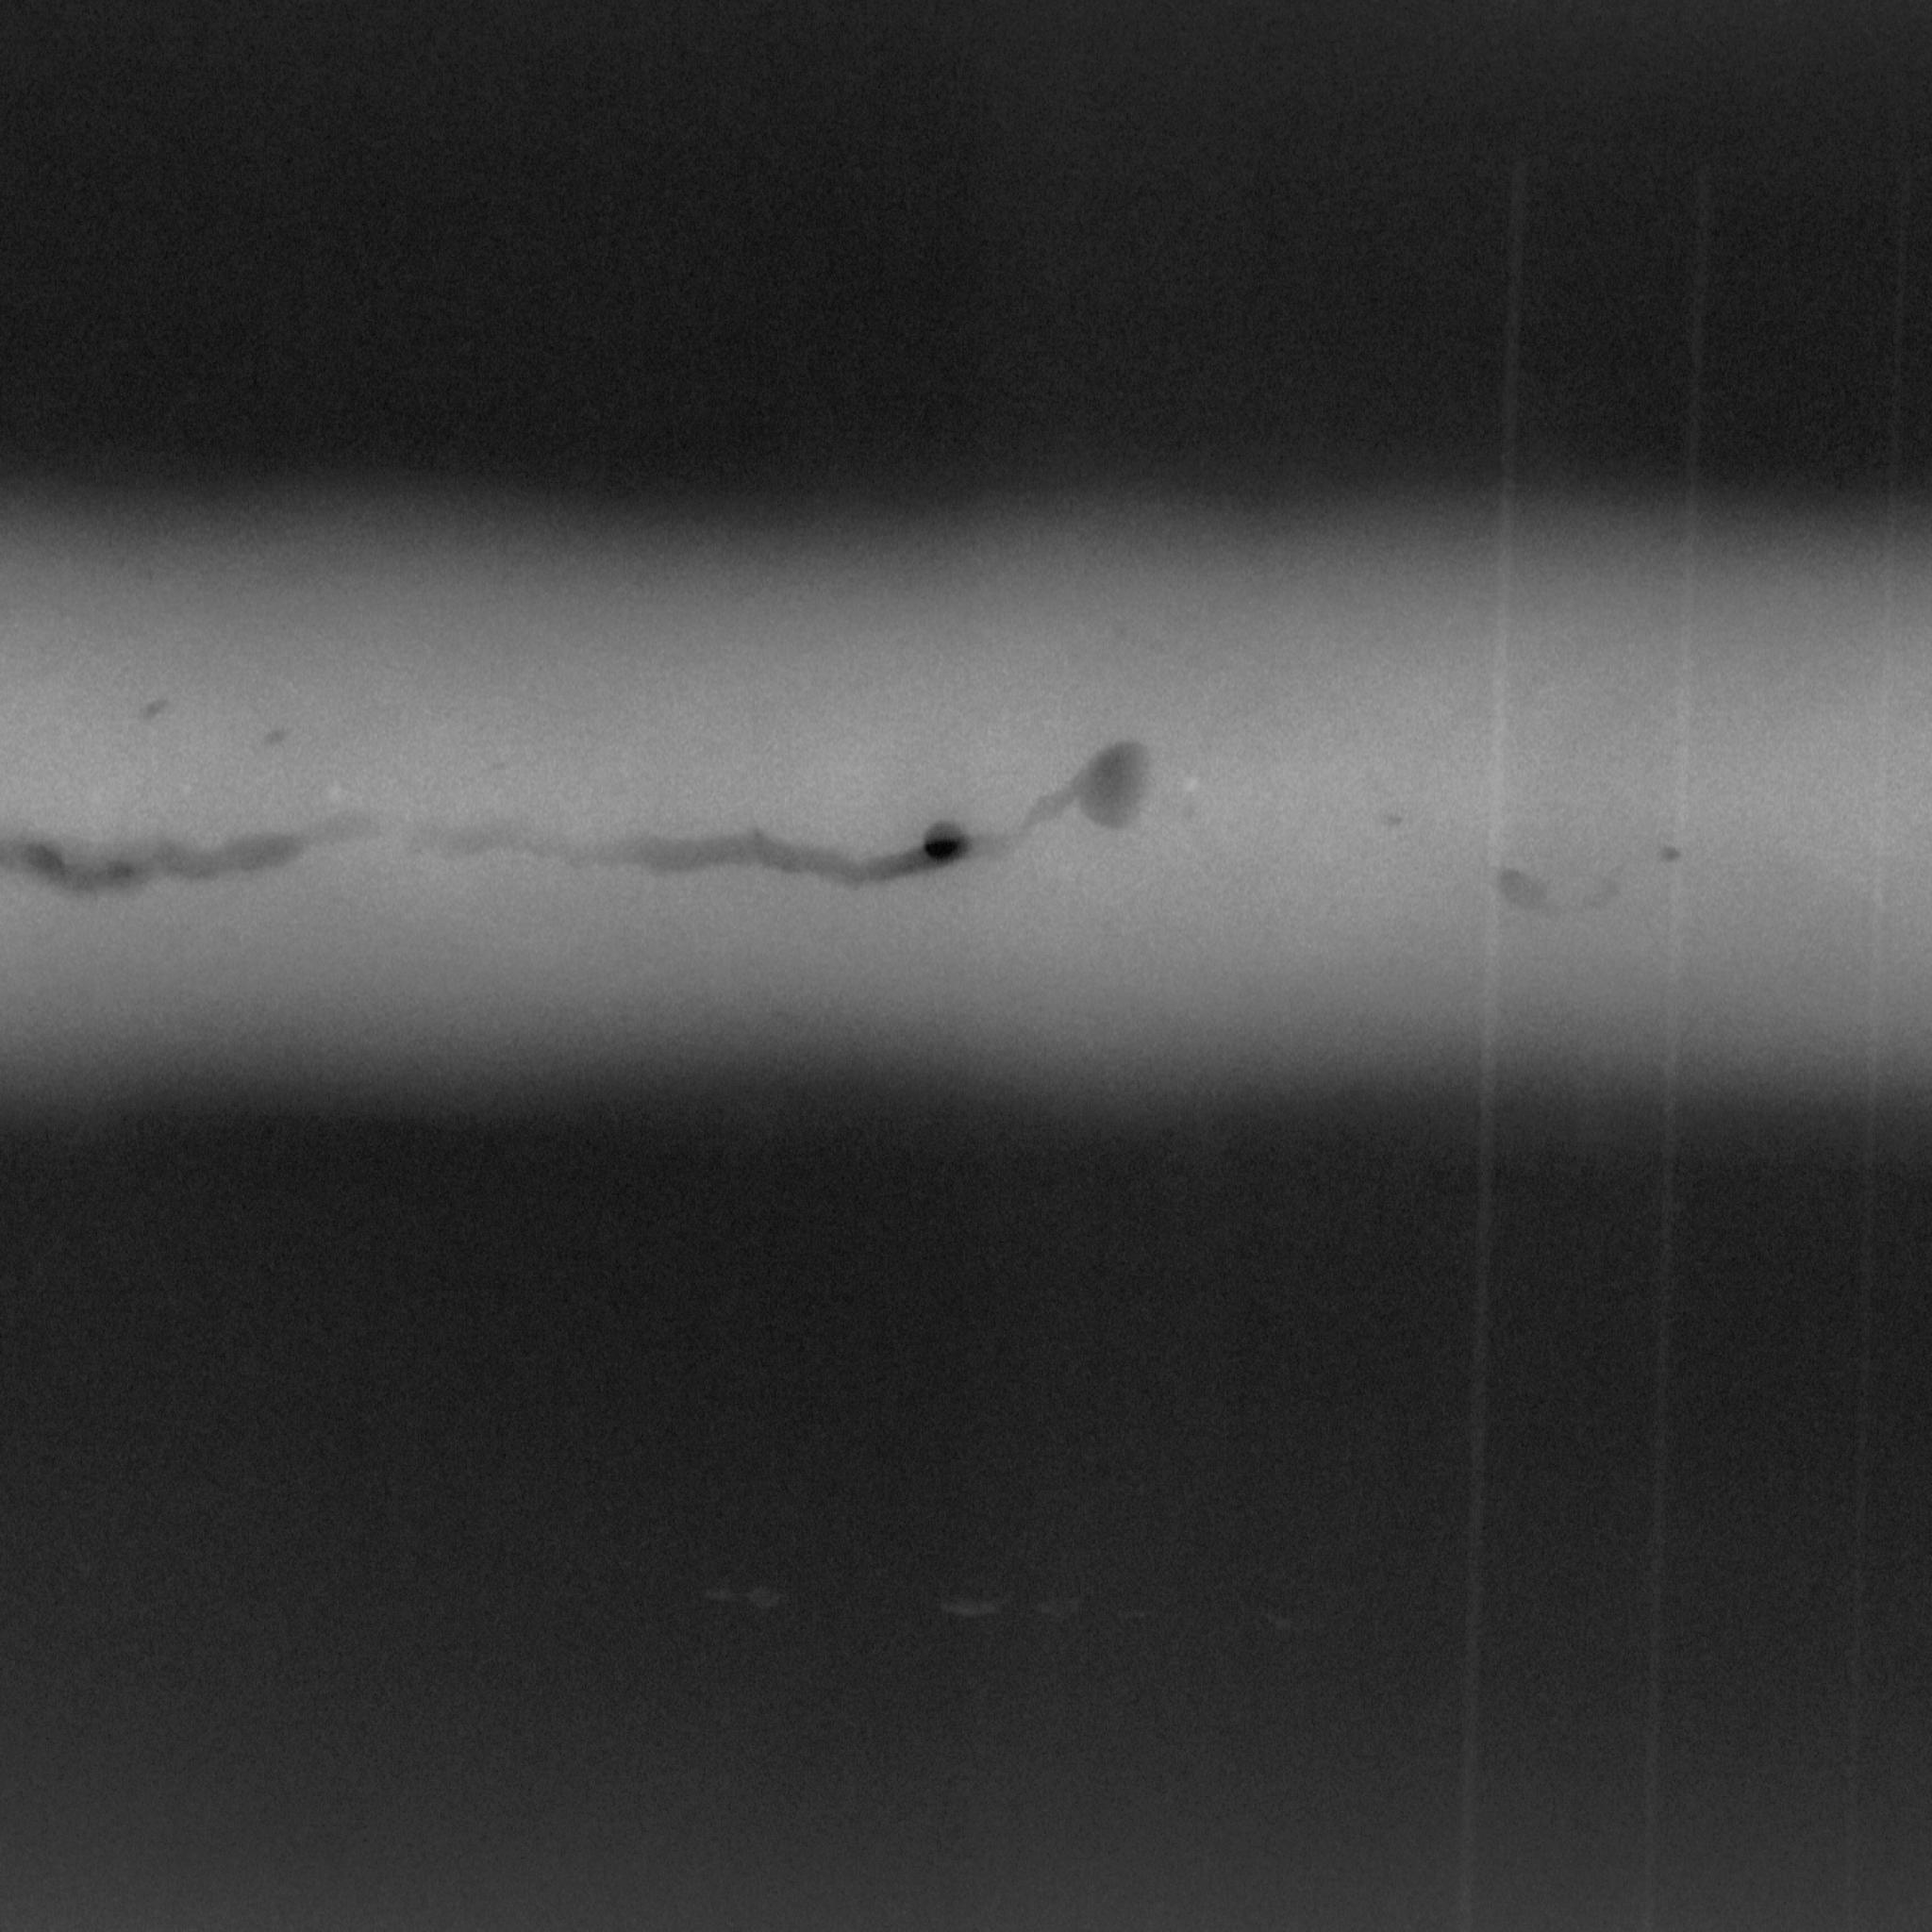Solda Ruim: (0, 414, 1932, 1228)
